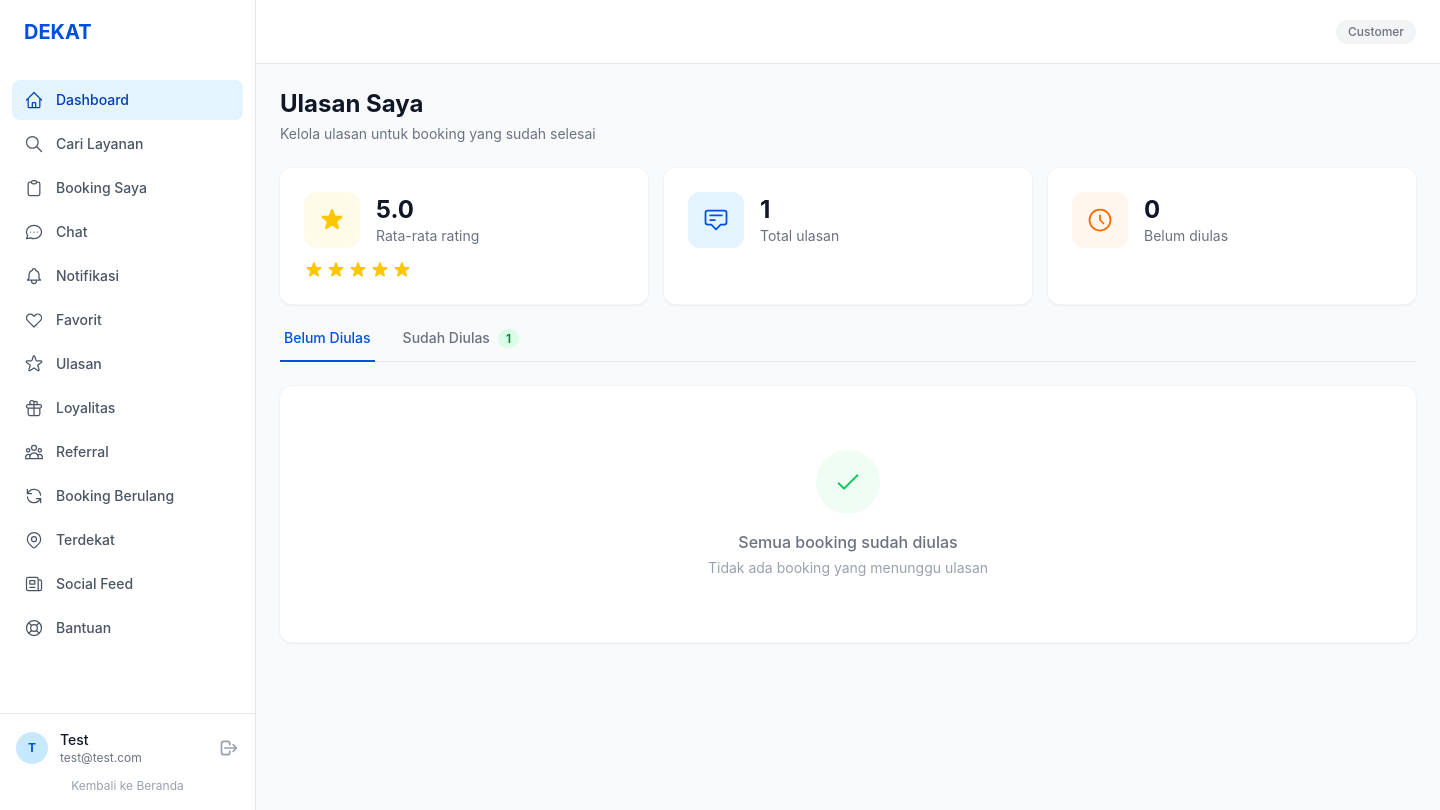
CustomerReviewsPage › shows reviewed bookings after clicking Reviewed tab
Check: the text "Semua booking sudah diulas" is shown, box left=738, top=532, right=958, bottom=552
# Now click the Reviewed tab
Click the button "Sudah Diulas1": (461, 345) left=399, top=328, right=523, bottom=362
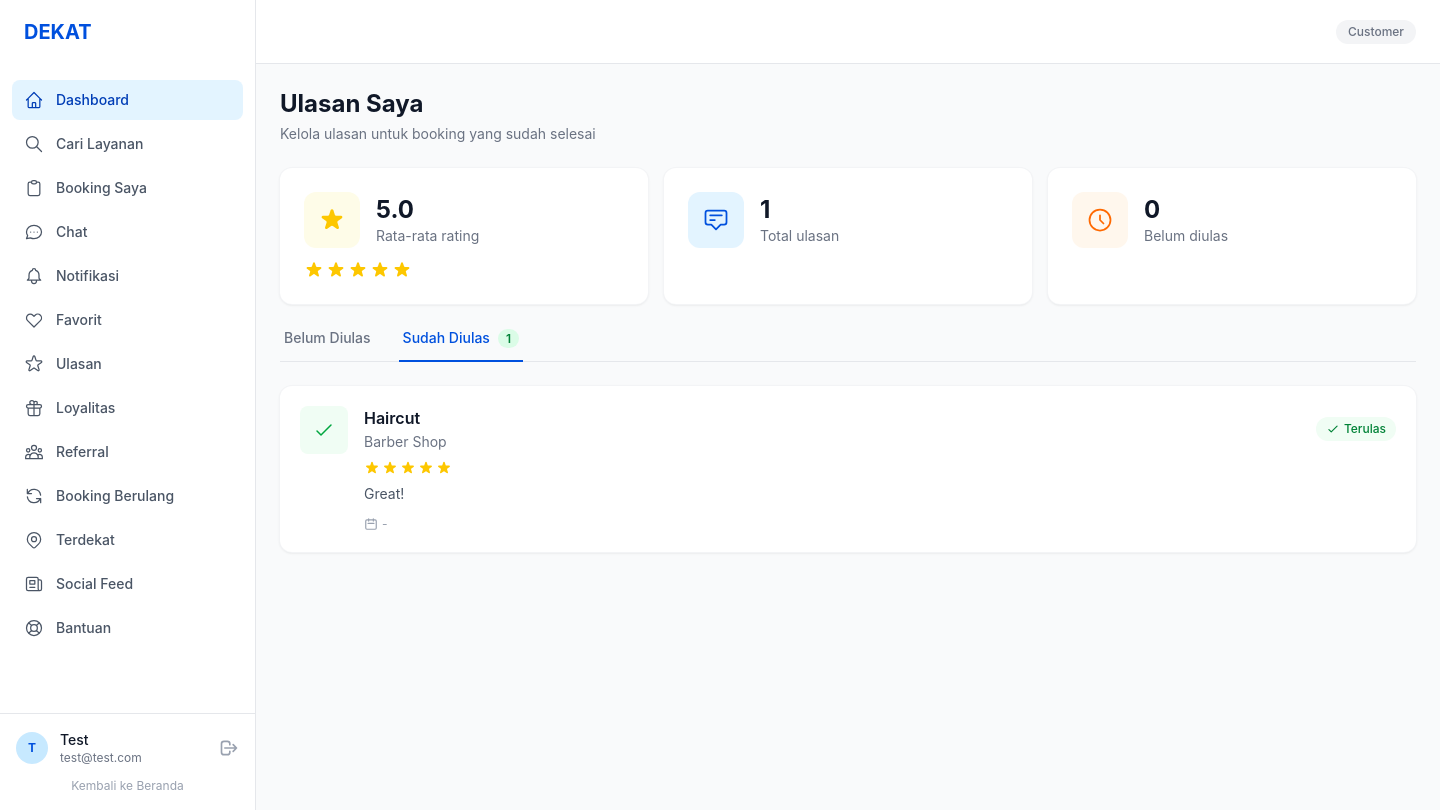
Check: the text "Haircut" is shown, box left=364, top=408, right=420, bottom=428
Check: the text "Barber Shop" is shown, box left=364, top=432, right=447, bottom=452
Check: the text "Terulas" is shown, box left=1316, top=417, right=1396, bottom=441
# Click back to Belum Diulas tab
Click the button "Belum Diulas": (327, 345) left=280, top=328, right=375, bottom=362
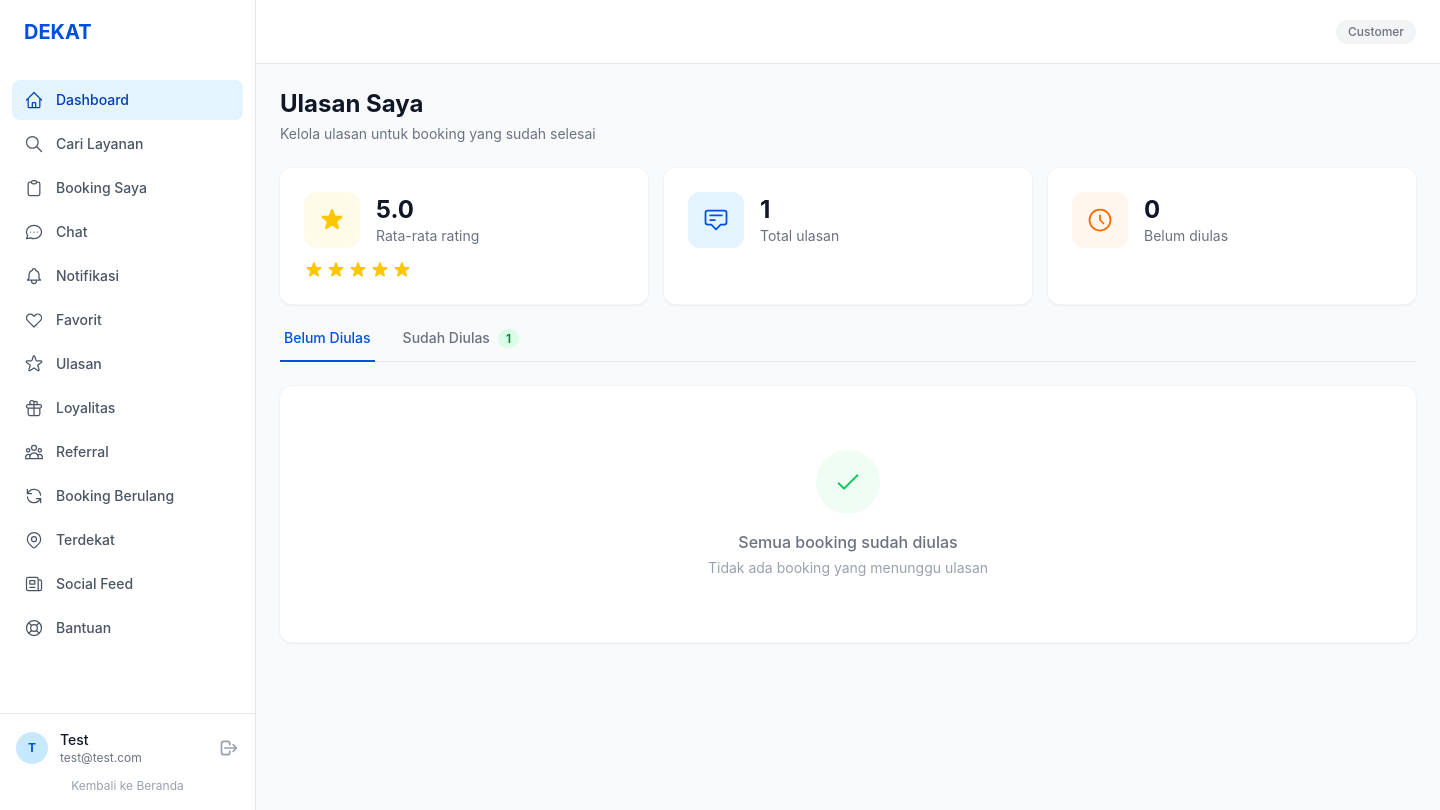
Check: the text "Semua booking sudah diulas" is shown, box left=738, top=532, right=958, bottom=552
